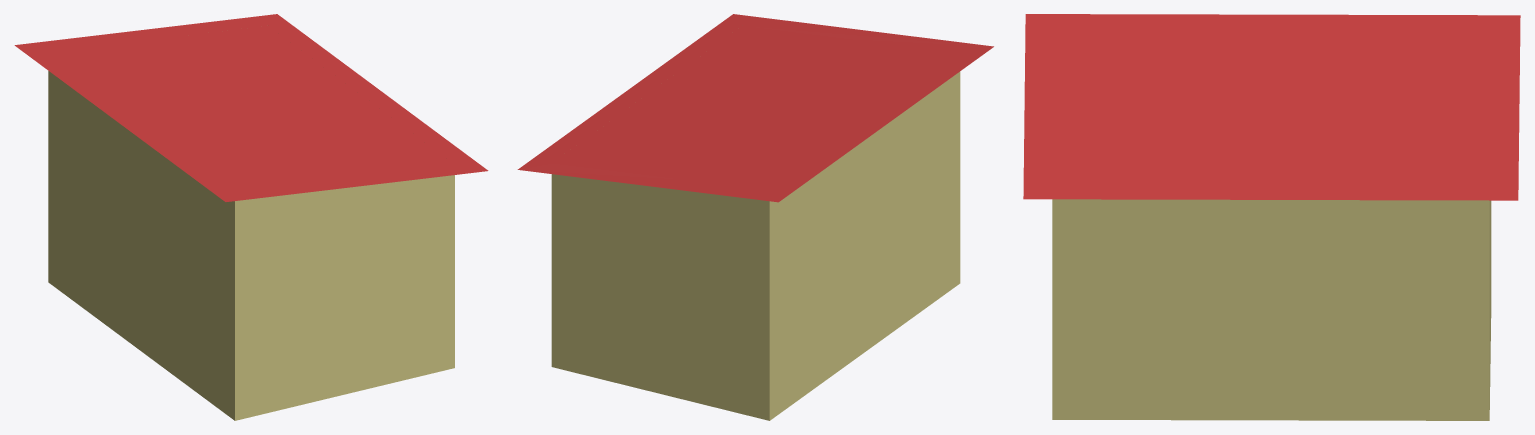
3 renders of one model, left to right at view 1: azimuth 30°, elevation 25°; view 2: azimuth 150°, elevation 25°; view 3: azimuth 270°, elevation 25°, orthographic. The views are drawn at different scales.
Size of the model in its own units: 9.19 by 12.92 by 7.74.
